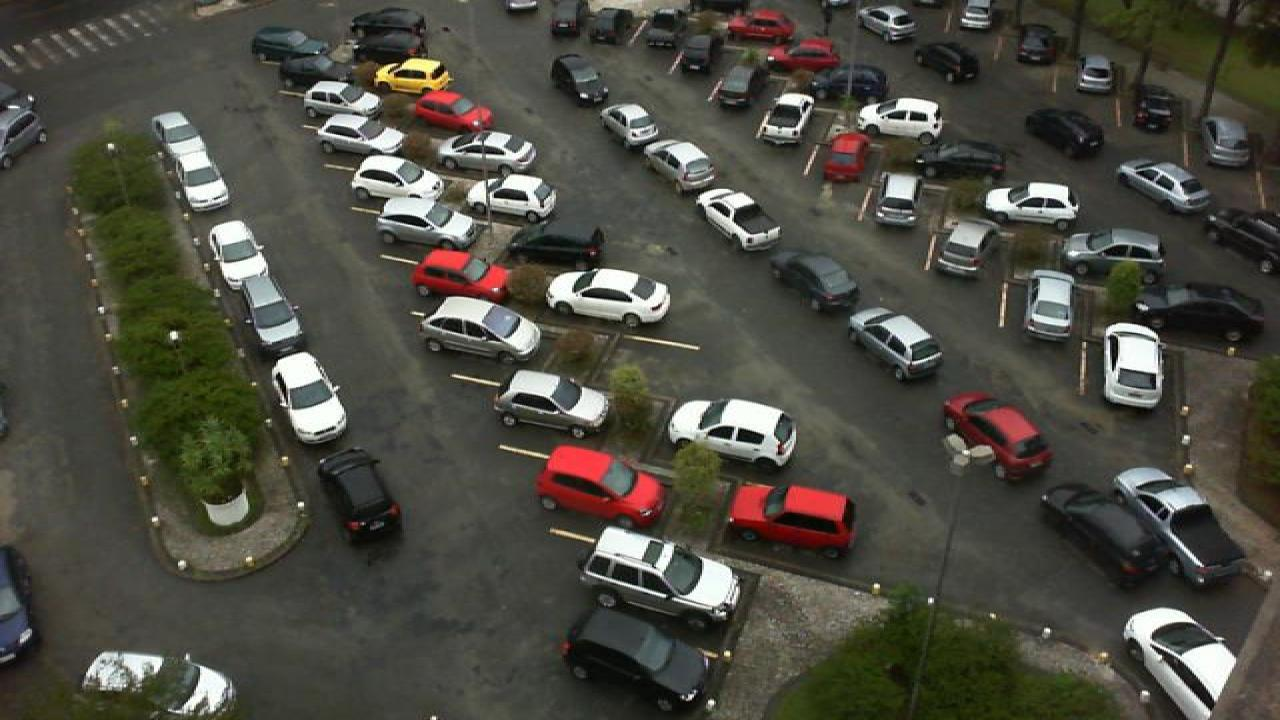Car: (578, 526, 744, 626), (1112, 467, 1250, 586), (562, 606, 712, 714), (14, 650, 240, 719), (1122, 606, 1242, 720), (1040, 483, 1170, 582), (534, 444, 666, 530), (942, 391, 1054, 482), (666, 397, 800, 473), (726, 482, 858, 552), (314, 447, 404, 541), (490, 369, 610, 439), (546, 266, 672, 328), (1132, 281, 1266, 339), (844, 307, 944, 381), (270, 352, 348, 446), (418, 312, 542, 366), (412, 248, 512, 306), (236, 269, 304, 354), (696, 188, 784, 252), (374, 196, 478, 250), (770, 252, 860, 314), (1102, 320, 1164, 410), (1116, 160, 1214, 216), (1062, 228, 1166, 279), (464, 174, 556, 226), (984, 181, 1080, 230), (350, 154, 446, 202), (1208, 207, 1280, 271), (434, 130, 538, 174), (506, 226, 604, 270), (206, 219, 272, 284), (348, 8, 426, 63), (930, 218, 1000, 279), (1026, 108, 1106, 160), (856, 96, 946, 142), (314, 112, 406, 156), (916, 140, 1010, 181), (644, 139, 716, 192), (410, 89, 494, 134), (172, 150, 232, 212), (1022, 269, 1076, 337), (754, 92, 814, 148), (300, 80, 382, 120), (372, 57, 452, 96), (248, 26, 328, 64), (808, 64, 888, 102), (278, 52, 352, 93), (550, 53, 610, 103), (598, 102, 662, 148), (150, 111, 206, 162), (914, 41, 980, 84), (1202, 116, 1254, 170), (870, 174, 920, 230), (714, 66, 774, 112), (822, 130, 870, 185), (766, 39, 840, 73), (668, 30, 722, 76), (1134, 82, 1180, 133), (730, 10, 798, 42), (582, 2, 630, 46), (860, 5, 916, 42), (1016, 22, 1060, 66), (1074, 55, 1116, 95), (638, 8, 678, 47), (550, 0, 588, 39), (960, 0, 996, 29)
